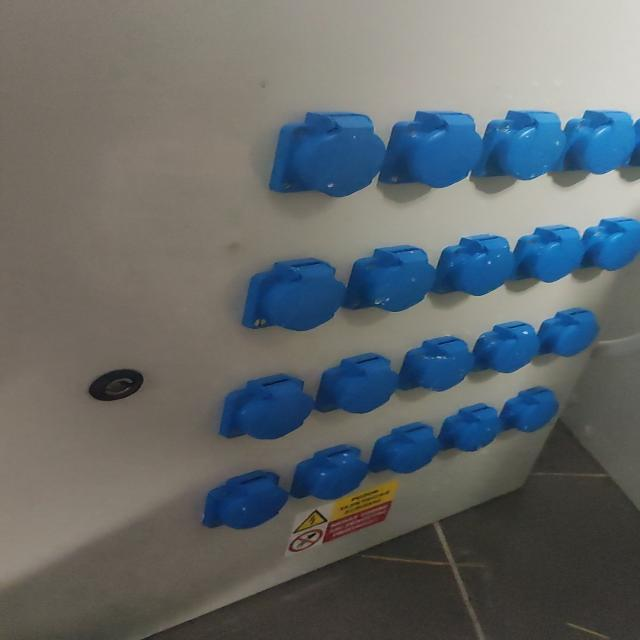house plug covered: (268, 113, 388, 199), (379, 111, 485, 191), (242, 259, 345, 334), (472, 110, 568, 181), (218, 373, 314, 441), (341, 245, 437, 312), (552, 110, 640, 176), (200, 472, 289, 532), (430, 235, 515, 297), (313, 358, 401, 415), (289, 444, 369, 501), (399, 336, 475, 392), (513, 225, 585, 283), (574, 216, 640, 272), (369, 422, 439, 474), (473, 321, 540, 374), (536, 308, 600, 358), (437, 403, 501, 452), (501, 386, 559, 433)
